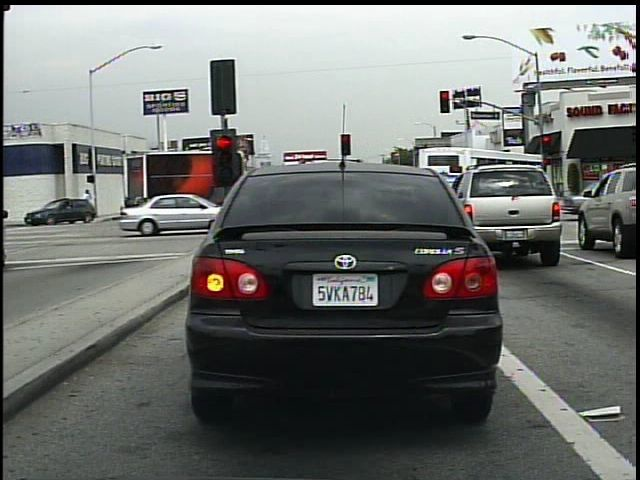person: (78, 184, 100, 219)
